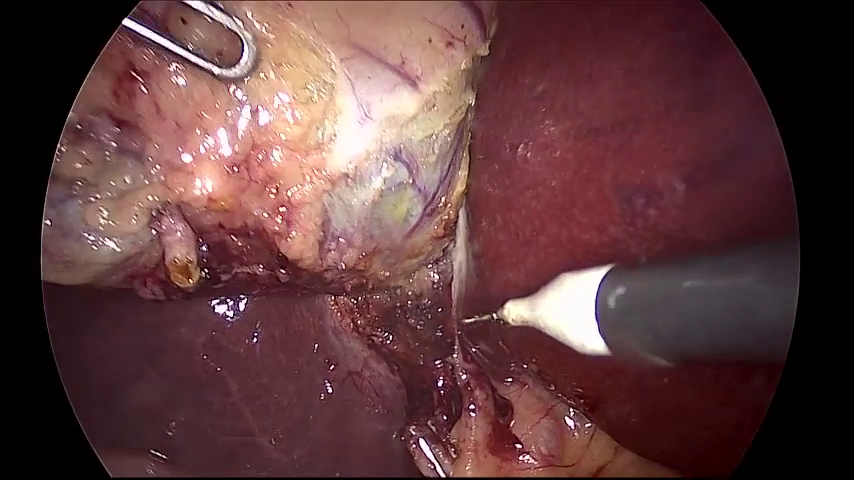grasper: (122, 1, 262, 78)
lhook: (457, 249, 800, 366)
